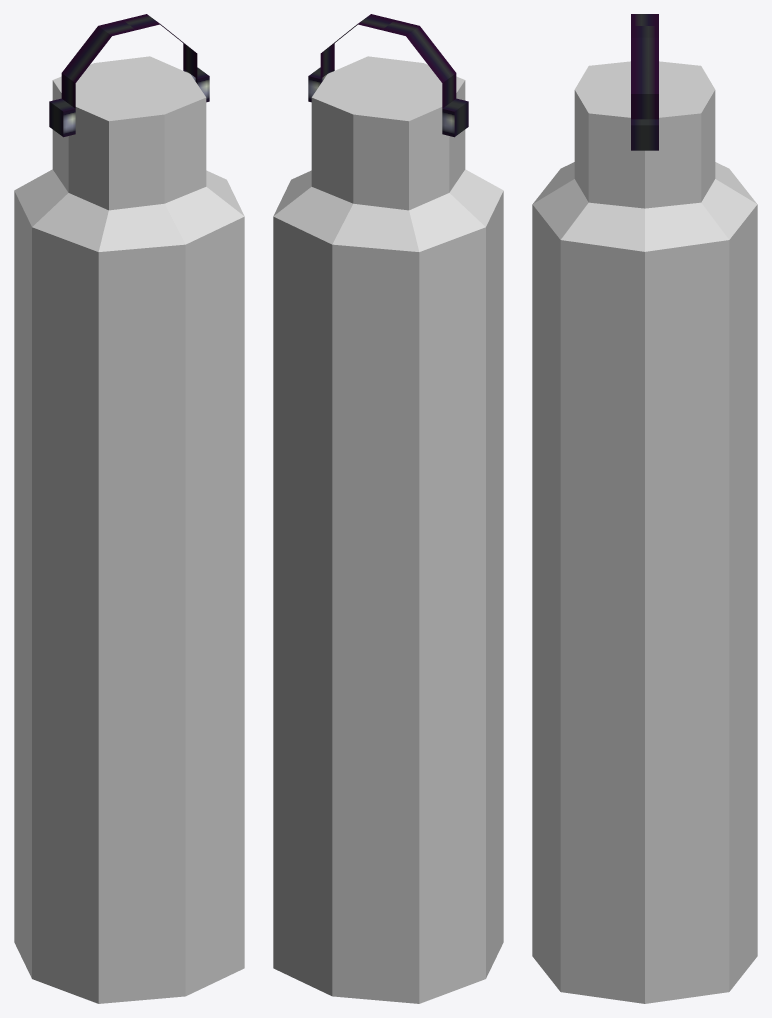
The model's file is bottle.fbx.
3 views of the same model, side by side, from view 1: azimuth 30°, elevation 25°; view 2: azimuth 150°, elevation 25°; view 3: azimuth 270°, elevation 25° (orthographic).
Parts seen in each view (by area): view 1: Bottle; view 2: Bottle; view 3: Bottle.
Boxes of the visible parts, box(x1,y1,x2,y2) form: Bottle: box(14, 14, 244, 1003); Bottle: box(273, 14, 503, 1003); Bottle: box(532, 14, 757, 1003).
Size of the model in its own units: 1 by 1 by 4.56.
Materials: 2 (1 with a texture image).
